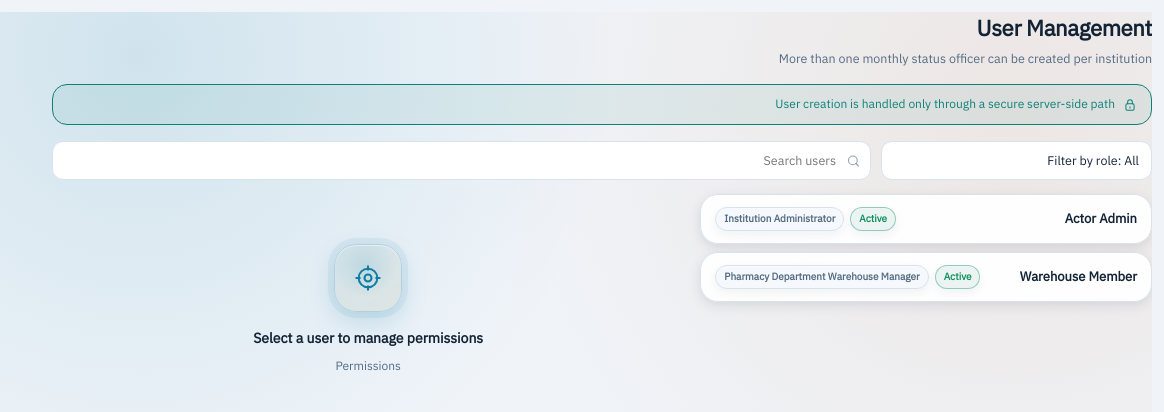
Test: P1 — authority boundaries are unchanged › a caller without users.manage_permissions gets no matrix and nothing is sent
The width and height of the screenshot is (1164, 412).
Click the text "Warehouse Member". click: point(1078, 277)
box: [1020, 267, 1137, 287]
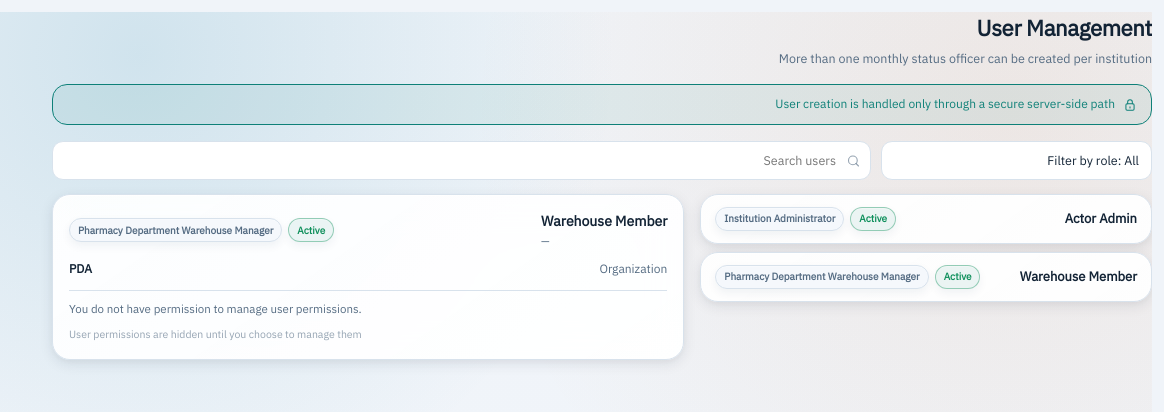
Now the text "You do not have permission to manage user permissions." is shown, box [69, 301, 362, 318]
